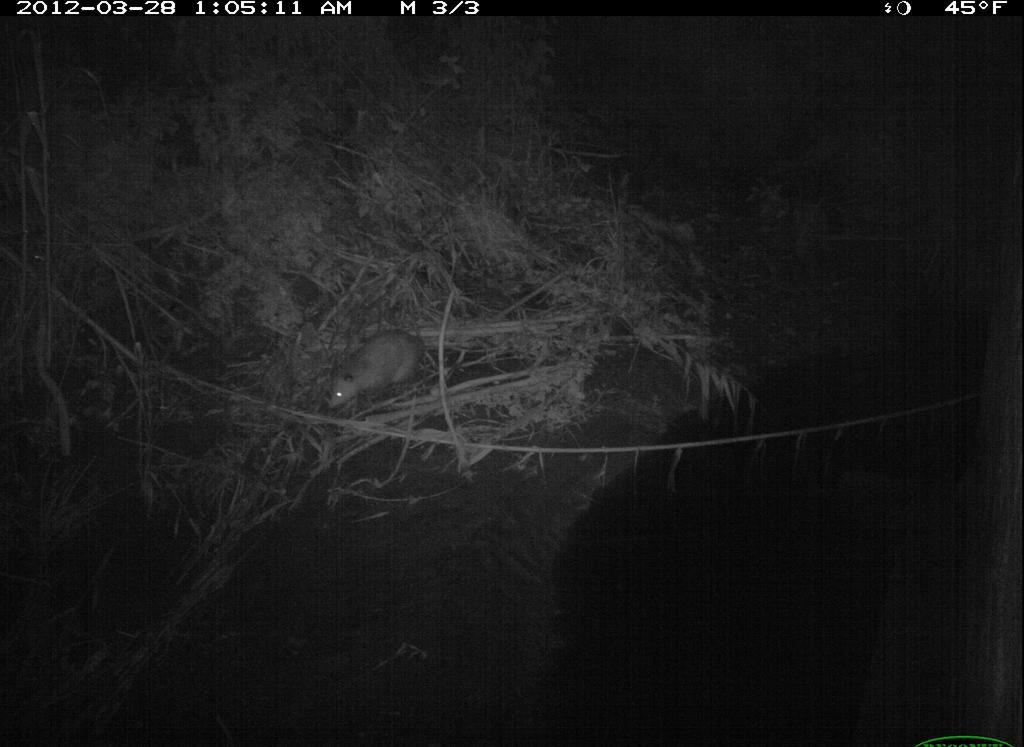opossum: (318, 327, 442, 424)
